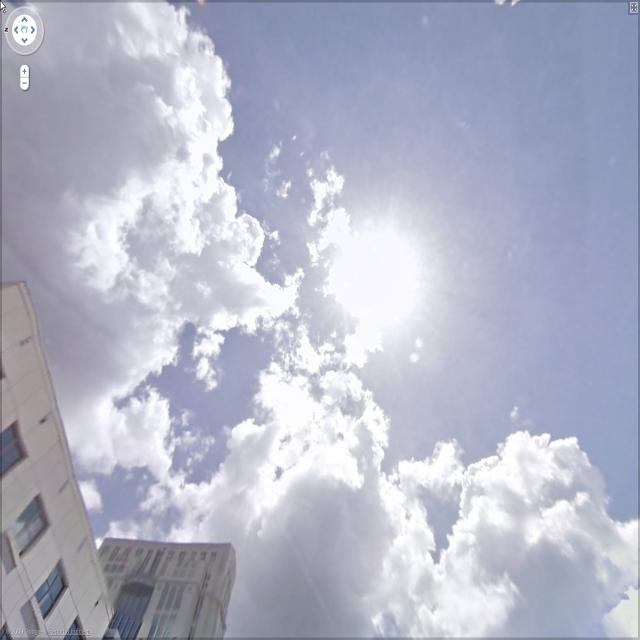b_1: (1, 284, 243, 632)
